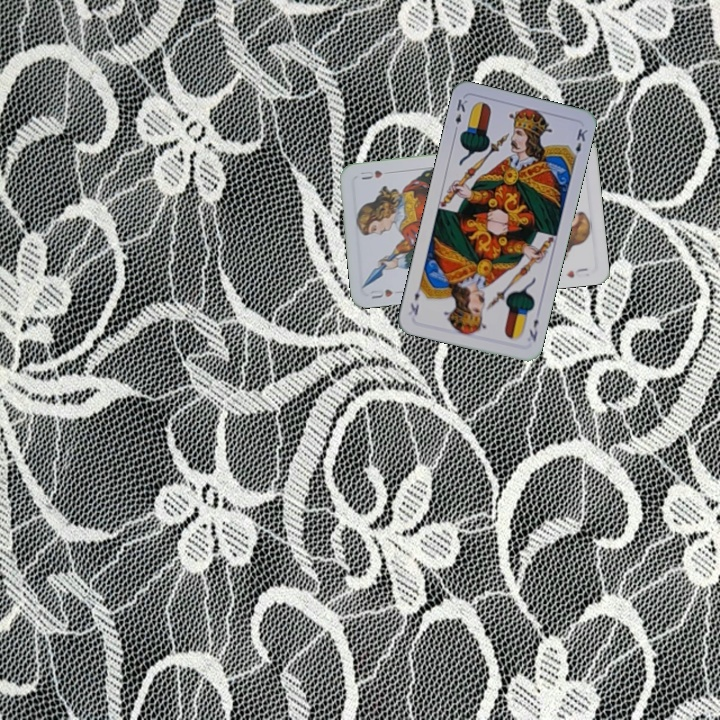EK: (450, 95, 470, 135), (525, 315, 541, 344)
HU: (366, 285, 395, 301)
